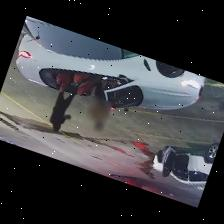person: (87, 83, 111, 130), (50, 91, 75, 131)
